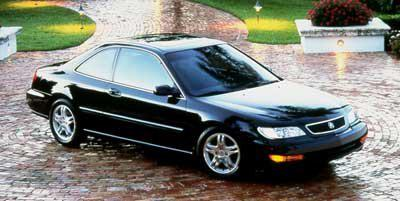acura: (20, 32, 376, 189)
